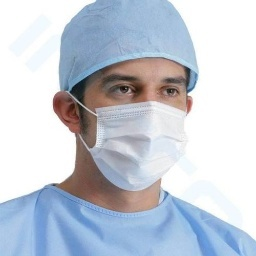correctlyWear: (52, 57, 193, 191)
